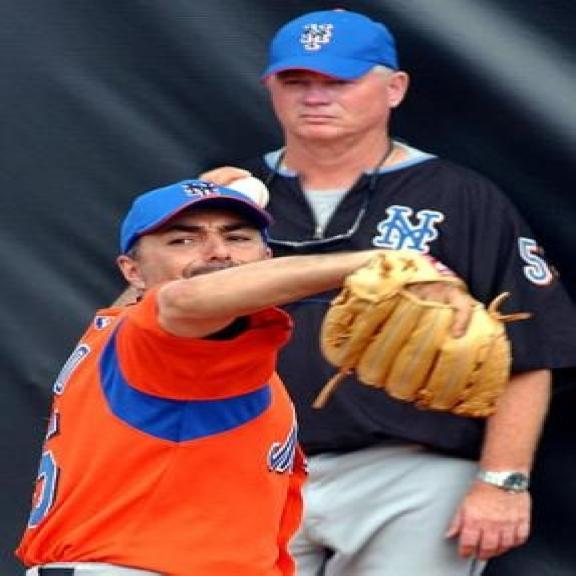face: (111, 220, 276, 302), (267, 63, 413, 144)
